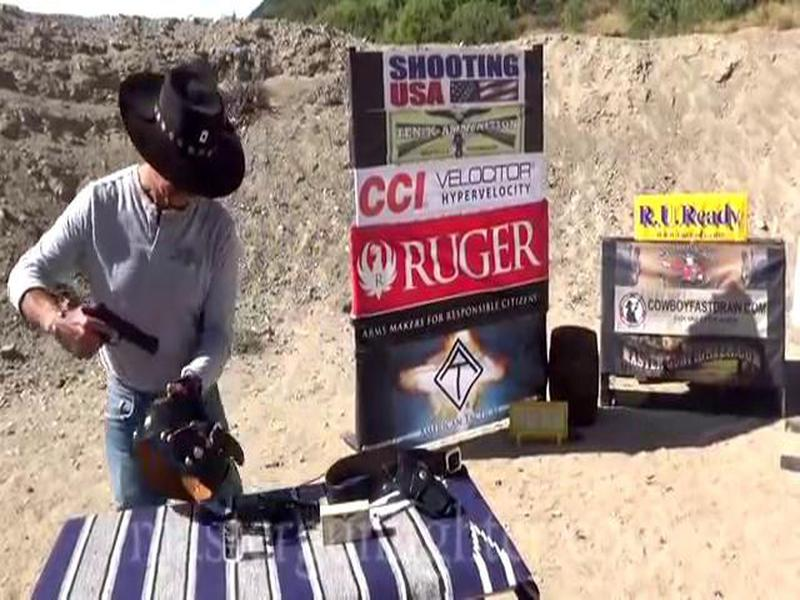Pistola: (67, 290, 165, 376)
